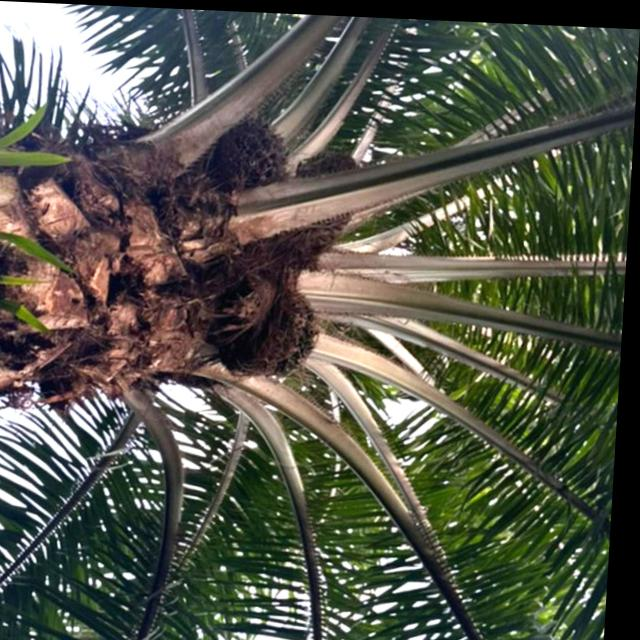unripe: (228, 280, 330, 383), (206, 112, 301, 189)
